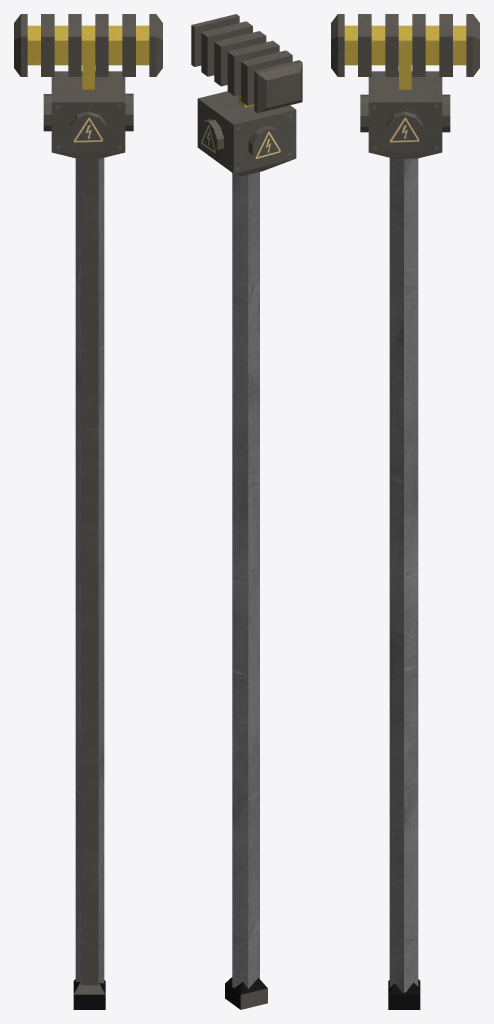
Rendered from Fence Pole.fbx.
3 views of the same model, side by side, from view 1: azimuth 90°, elevation 25°; view 2: azimuth 210°, elevation 25°; view 3: azimuth 270°, elevation 25° (orthographic). The views are drawn at different scales.
Visible parts, largest first — view 1: polySurface1; view 2: polySurface1; view 3: polySurface1.
Part boxes in pixels (x1=…): polySurface1: x1=14, y1=14, x2=162, y2=1009; polySurface1: x1=191, y1=14, x2=302, y2=1009; polySurface1: x1=331, y1=14, x2=479, y2=1009.
Size of the model in its own units: 4.71 by 56.52 by 7.8.
1 material, 1 textured.
